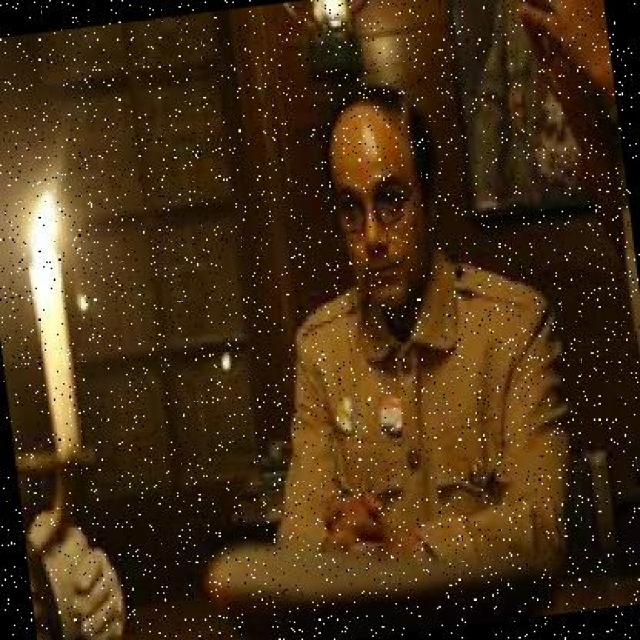fire: (14, 186, 78, 274)
